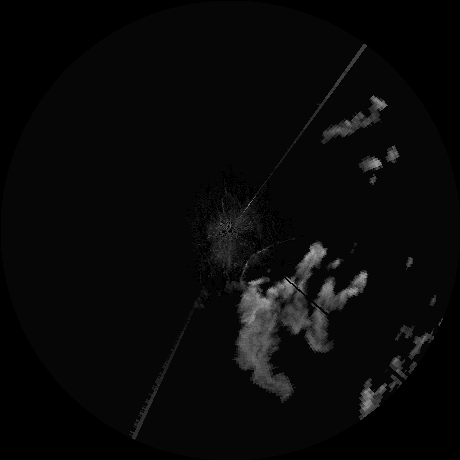frontgust: (241, 246, 269, 281)
